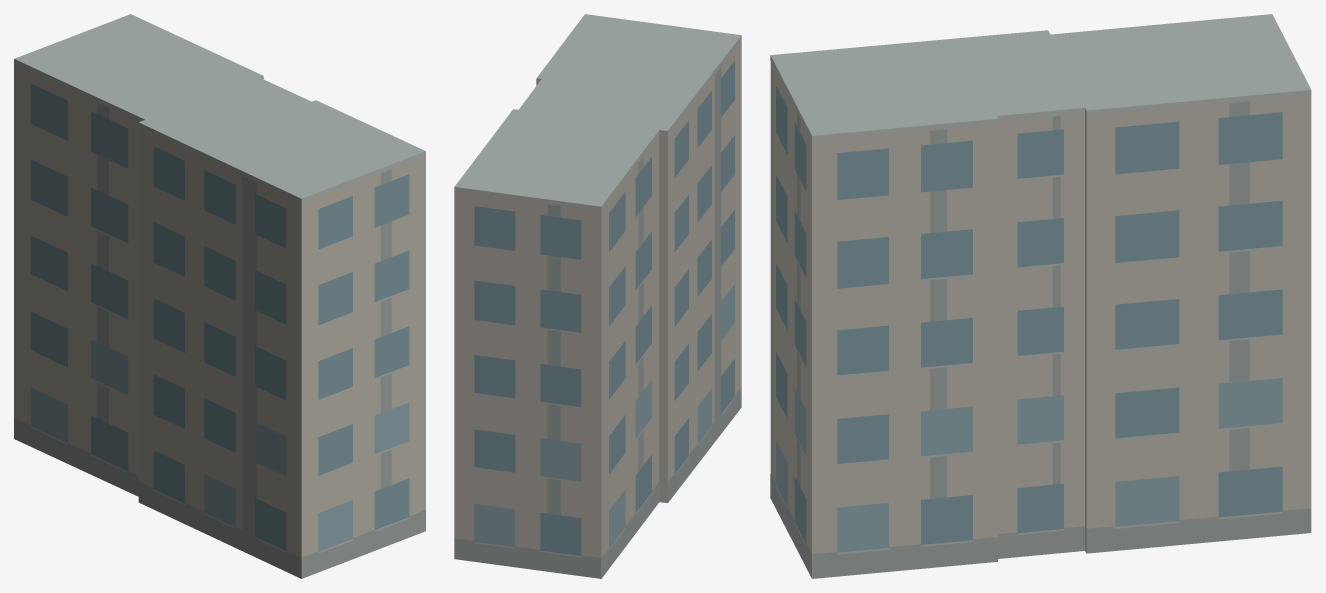
File: survey-upis-32926930.glb
The picture shows the model from 3 angles, left to right: view 1: azimuth 30°, elevation 25°; view 2: azimuth 150°, elevation 25°; view 3: azimuth 270°, elevation 25°; orthographic projection. The views are drawn at different scales.
Parts seen in each view (by area): view 1: survey-upis-32926930.tmp; view 2: survey-upis-32926930.tmp; view 3: survey-upis-32926930.tmp.
Boxes of the visible parts, x1=… form: survey-upis-32926930.tmp: x1=14, y1=14, x2=425, y2=578; survey-upis-32926930.tmp: x1=454, y1=14, x2=741, y2=578; survey-upis-32926930.tmp: x1=770, y1=14, x2=1311, y2=578.
Bounding box in the file's own units: 10.86 × 18.39 × 20.36.
